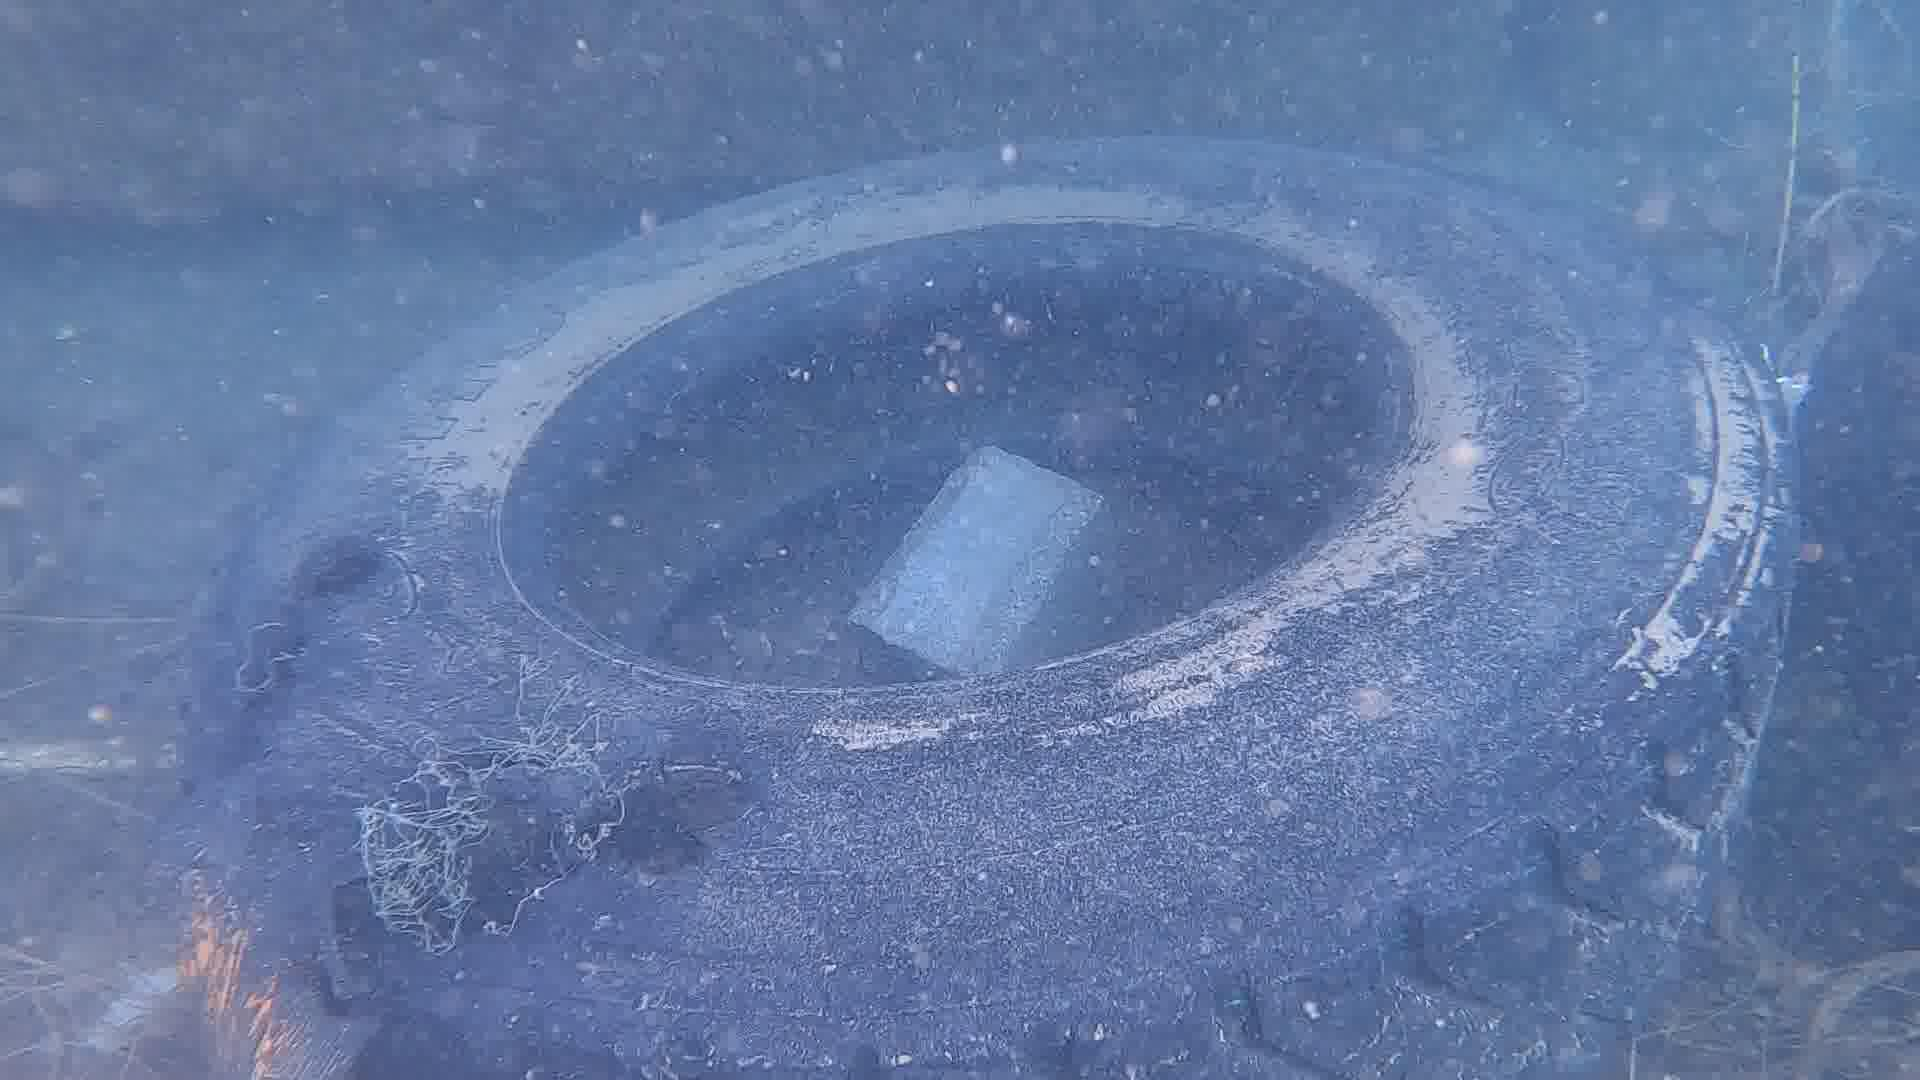tire: (185, 136, 1789, 1080)
